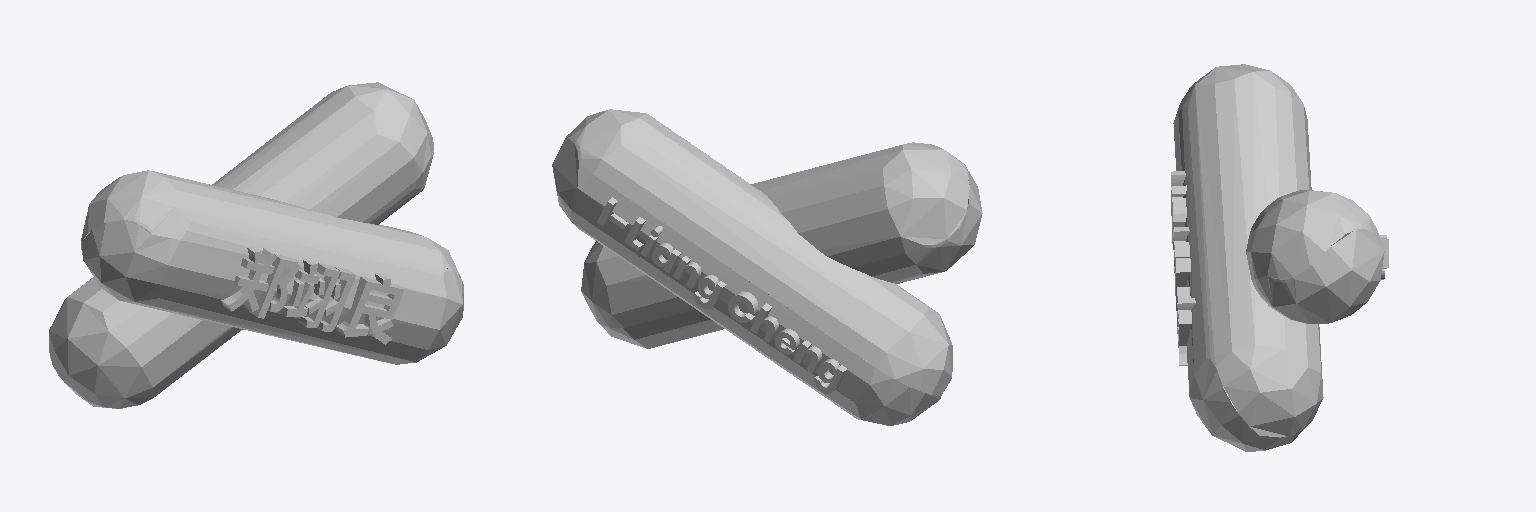
File: ILiangCheng.obj
3 renders of one model, left to right at view 1: azimuth 30°, elevation 25°; view 2: azimuth 150°, elevation 25°; view 3: azimuth 270°, elevation 25°, orthographic.
Visible parts, largest first — view 1: root_3, root_2, node_id639; view 2: root_2, root_3, node_id650; view 3: root_3, root_2, node_id639.
Boxes of the visible parts, x1,y1,x2,y2 form: root_3: [81, 170, 463, 364]; root_2: [49, 82, 433, 408]; node_id639: [221, 246, 403, 344]; root_2: [552, 109, 952, 425]; root_3: [581, 142, 982, 348]; node_id650: [597, 197, 846, 393]; root_3: [1173, 64, 1323, 451]; root_2: [1246, 190, 1384, 323]; node_id639: [1171, 171, 1195, 365].
Bounding box in the file's own units: 0.289 × 0.1836 × 0.1452.